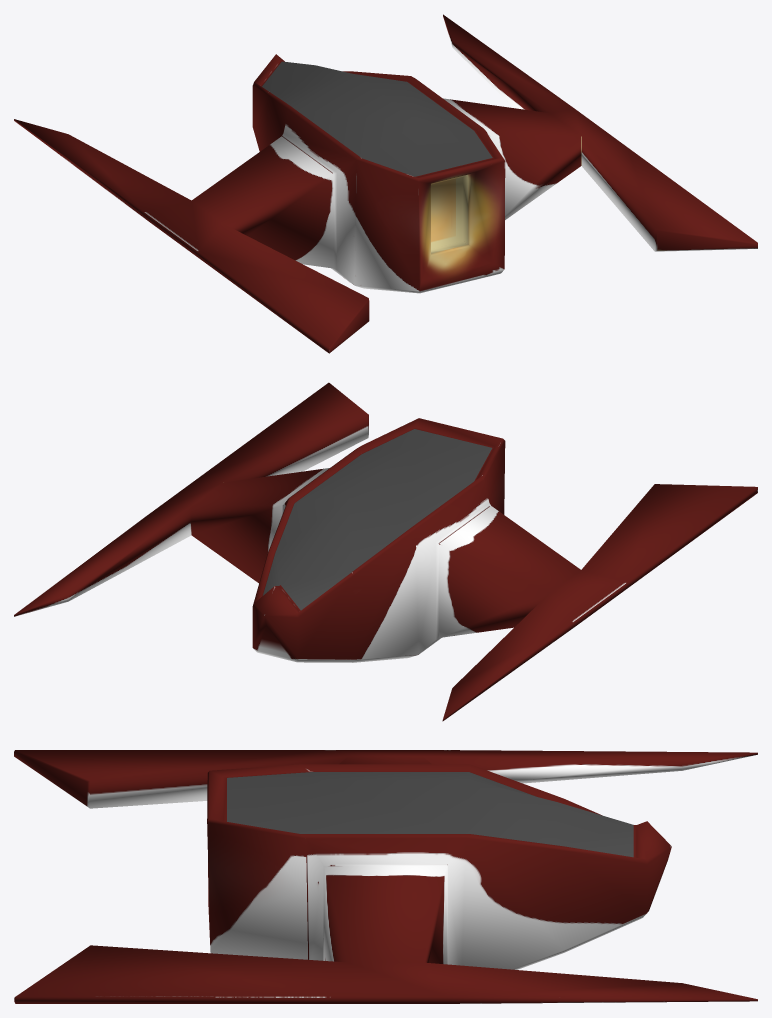
Rendered from ships_models.dae.
The picture shows the model from 3 angles, top to bottom: view 1: azimuth 30°, elevation 25°; view 2: azimuth 150°, elevation 25°; view 3: azimuth 270°, elevation 25°; orthographic projection. The views are drawn at different scales.
Parts seen in each view (by area): view 1: ship_2; view 2: ship_2; view 3: ship_2.
Boxes of the visible parts, box(x1,y1,x2,y2) form: ship_2: box(14, 14, 757, 353); ship_2: box(14, 382, 757, 721); ship_2: box(14, 750, 757, 1003).
Size of the model in its own units: 2.19 by 2.79 by 0.7224.
Materials: 2 (1 with a texture image).
